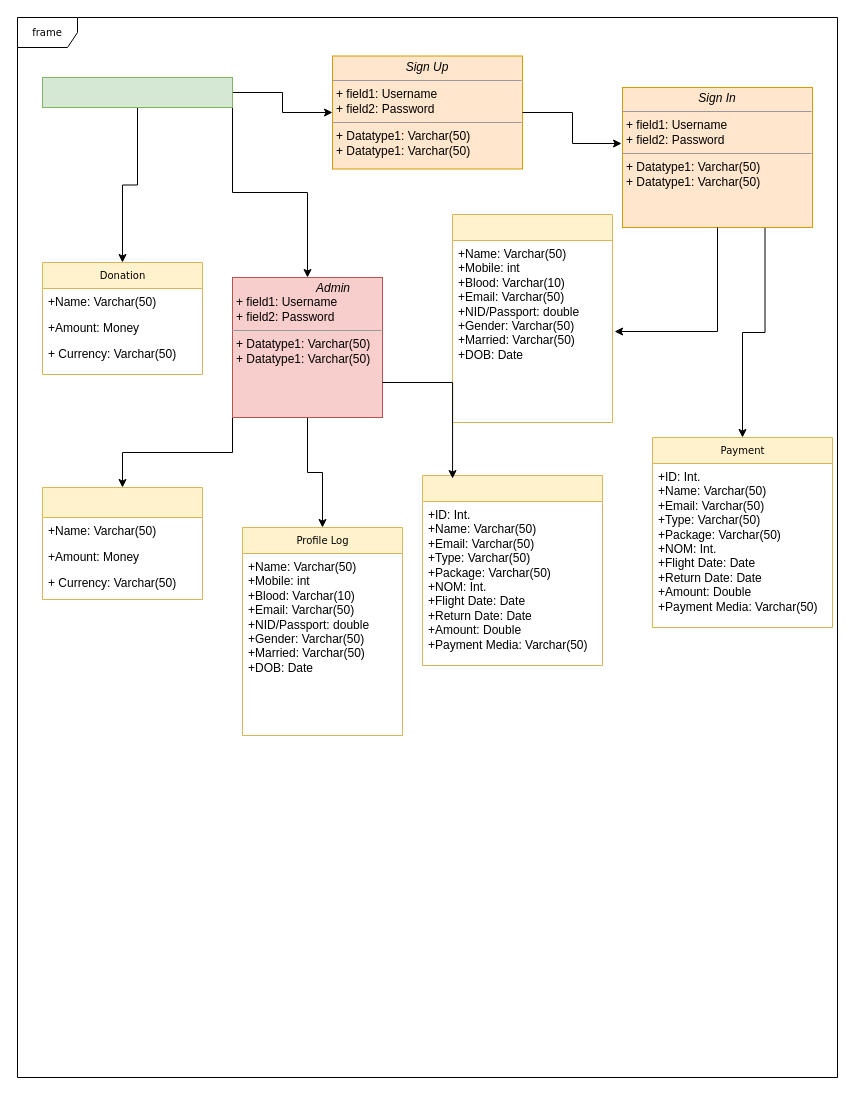
This 855x1095 diagram has some shape labels left out. Each missing label, with the box of its shape:
Donation Log: (42, 486, 202, 600)
Payment Log: (422, 474, 602, 666)
Profile: (452, 214, 612, 422)
USER: (42, 76, 232, 108)
